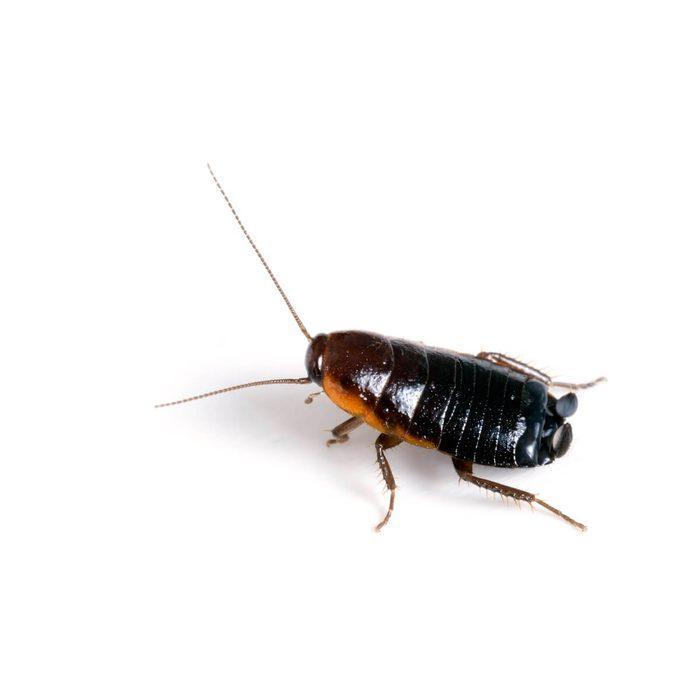cockroach: (292, 325, 588, 486)
